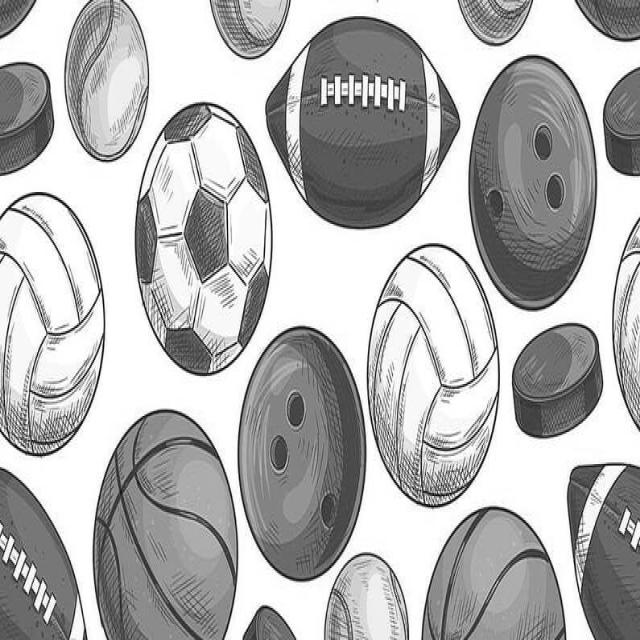ball: (265, 14, 460, 229), (228, 318, 374, 597), (364, 236, 507, 513), (135, 101, 272, 376)
